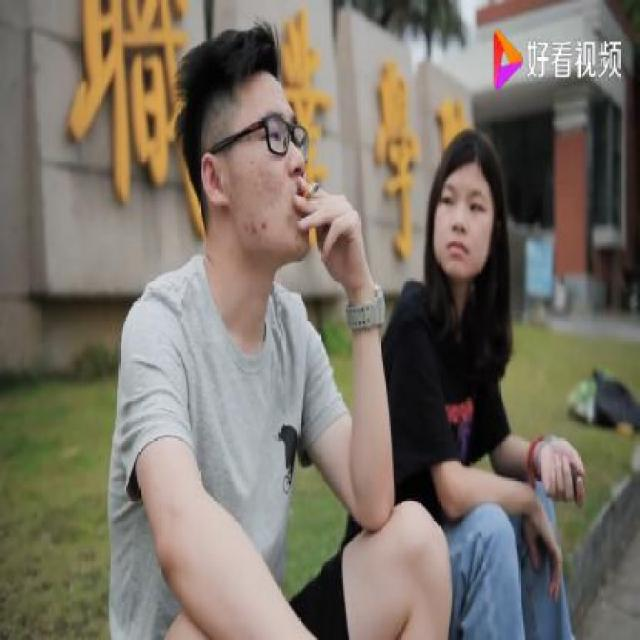cigarette: (297, 172, 325, 214)
